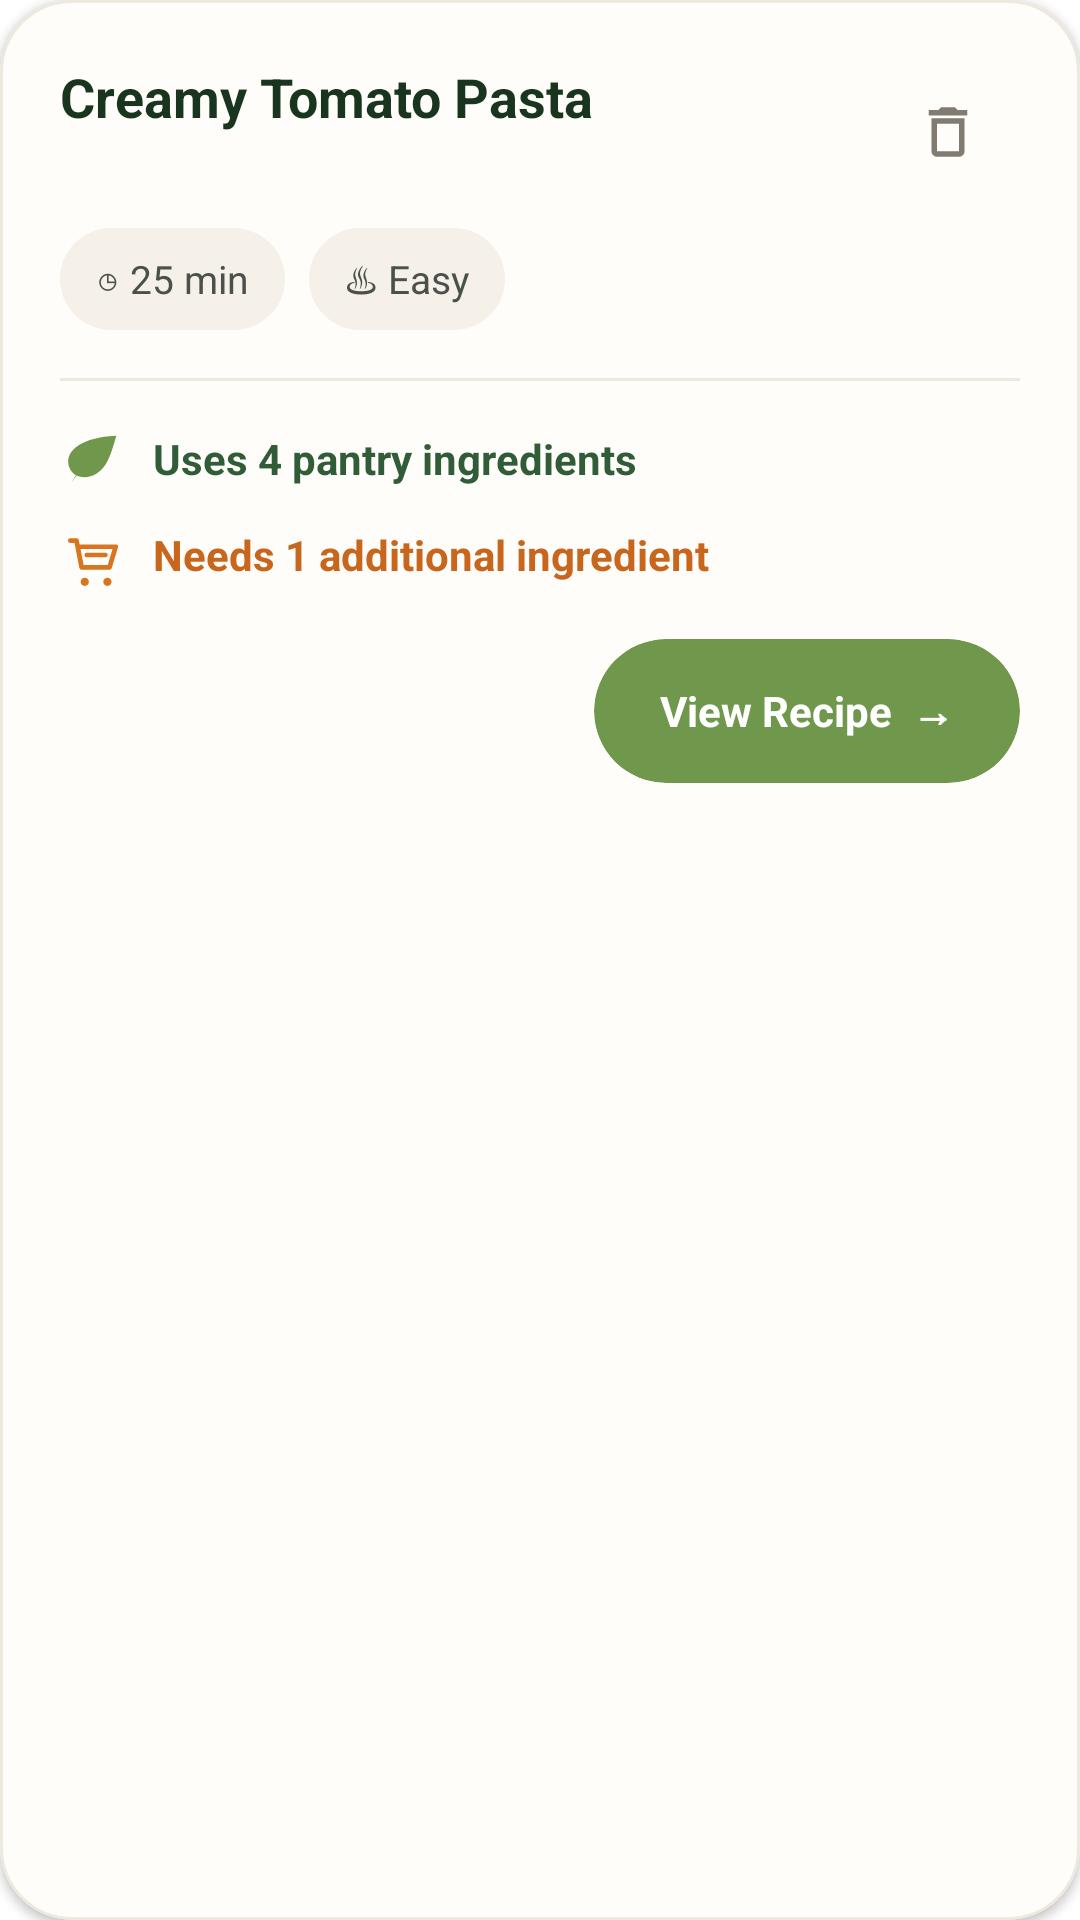

Where icons sit on this 1080px x 1920px app screen, as (x1, y1, x2, y2):
Delete recipe: (928, 107, 968, 157)
Missing ingredients: (68, 538, 118, 586)
